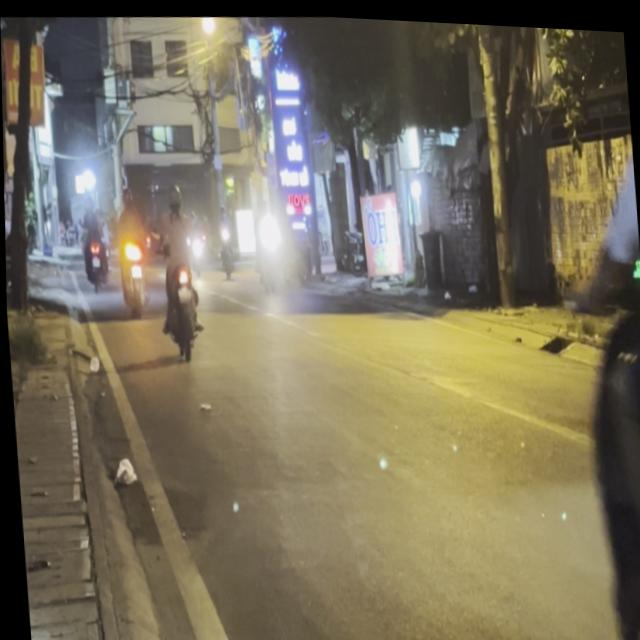licenseplate: (548, 22, 640, 640)
